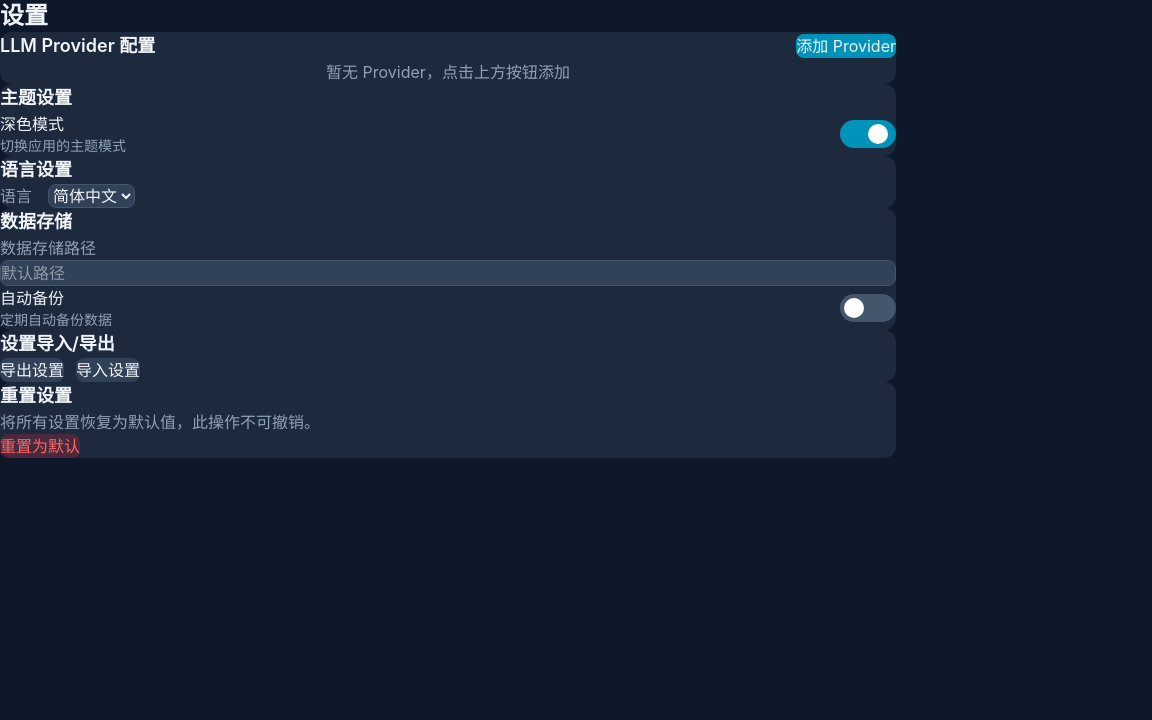
Settings Page › reset settings › shows confirmation dialog when clicking reset
This screenshot has width=1152, height=720.
Click the button "重置为默认" at [40, 446], box left=0, top=434, right=80, bottom=458
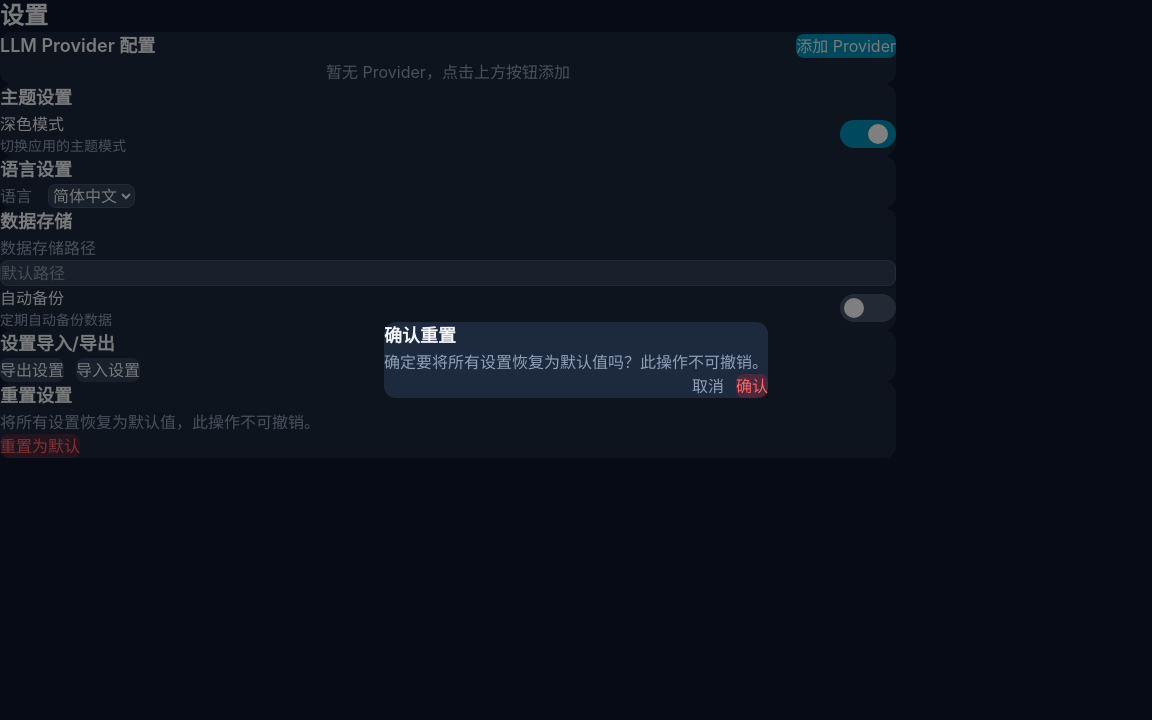
expect the heading "确认重置" is shown: met, box left=384, top=325, right=456, bottom=346
